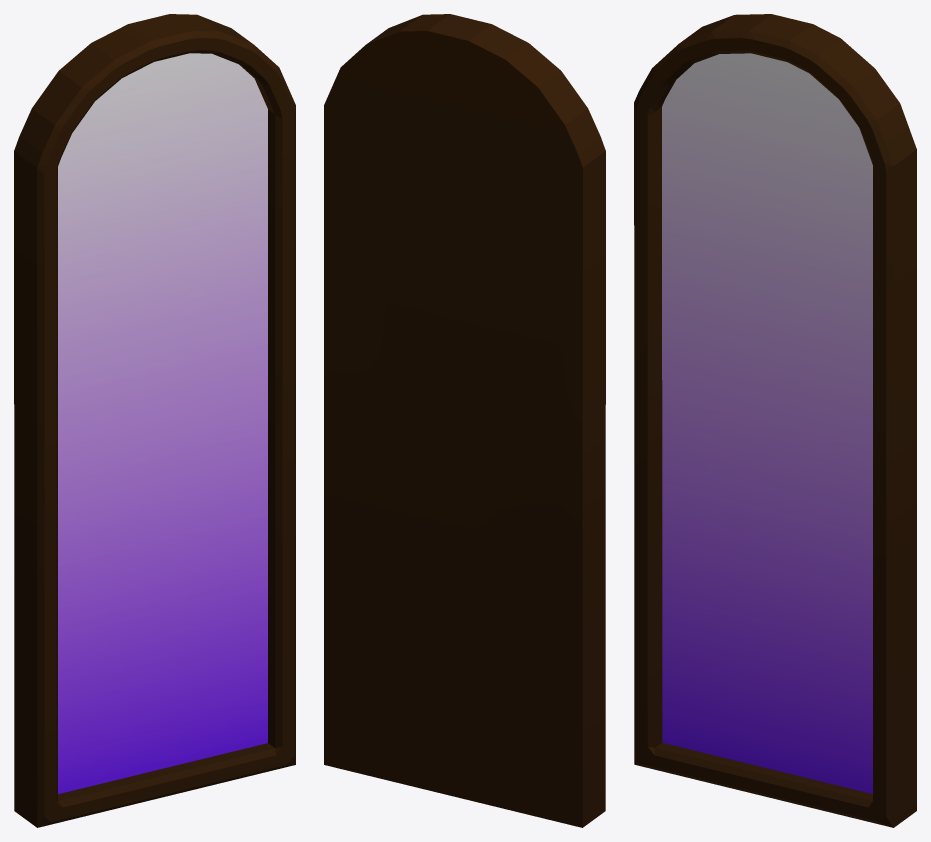
File: Espejo2.fbx
3 views of the same model, side by side, from view 1: azimuth 30°, elevation 25°; view 2: azimuth 150°, elevation 25°; view 3: azimuth 330°, elevation 25° (orthographic).
Parts seen in each view (by area): view 1: Espejo2.001; view 2: Espejo2.001; view 3: Espejo2.001.
Boxes of the visible parts, <box> form: Espejo2.001: <box>14,14,295,827</box>; Espejo2.001: <box>324,14,605,827</box>; Espejo2.001: <box>634,14,916,827</box>.
Bounding box in the file's own units: 4.21 × 11.81 × 0.7256.
Materials: 1 (1 with a texture image).
